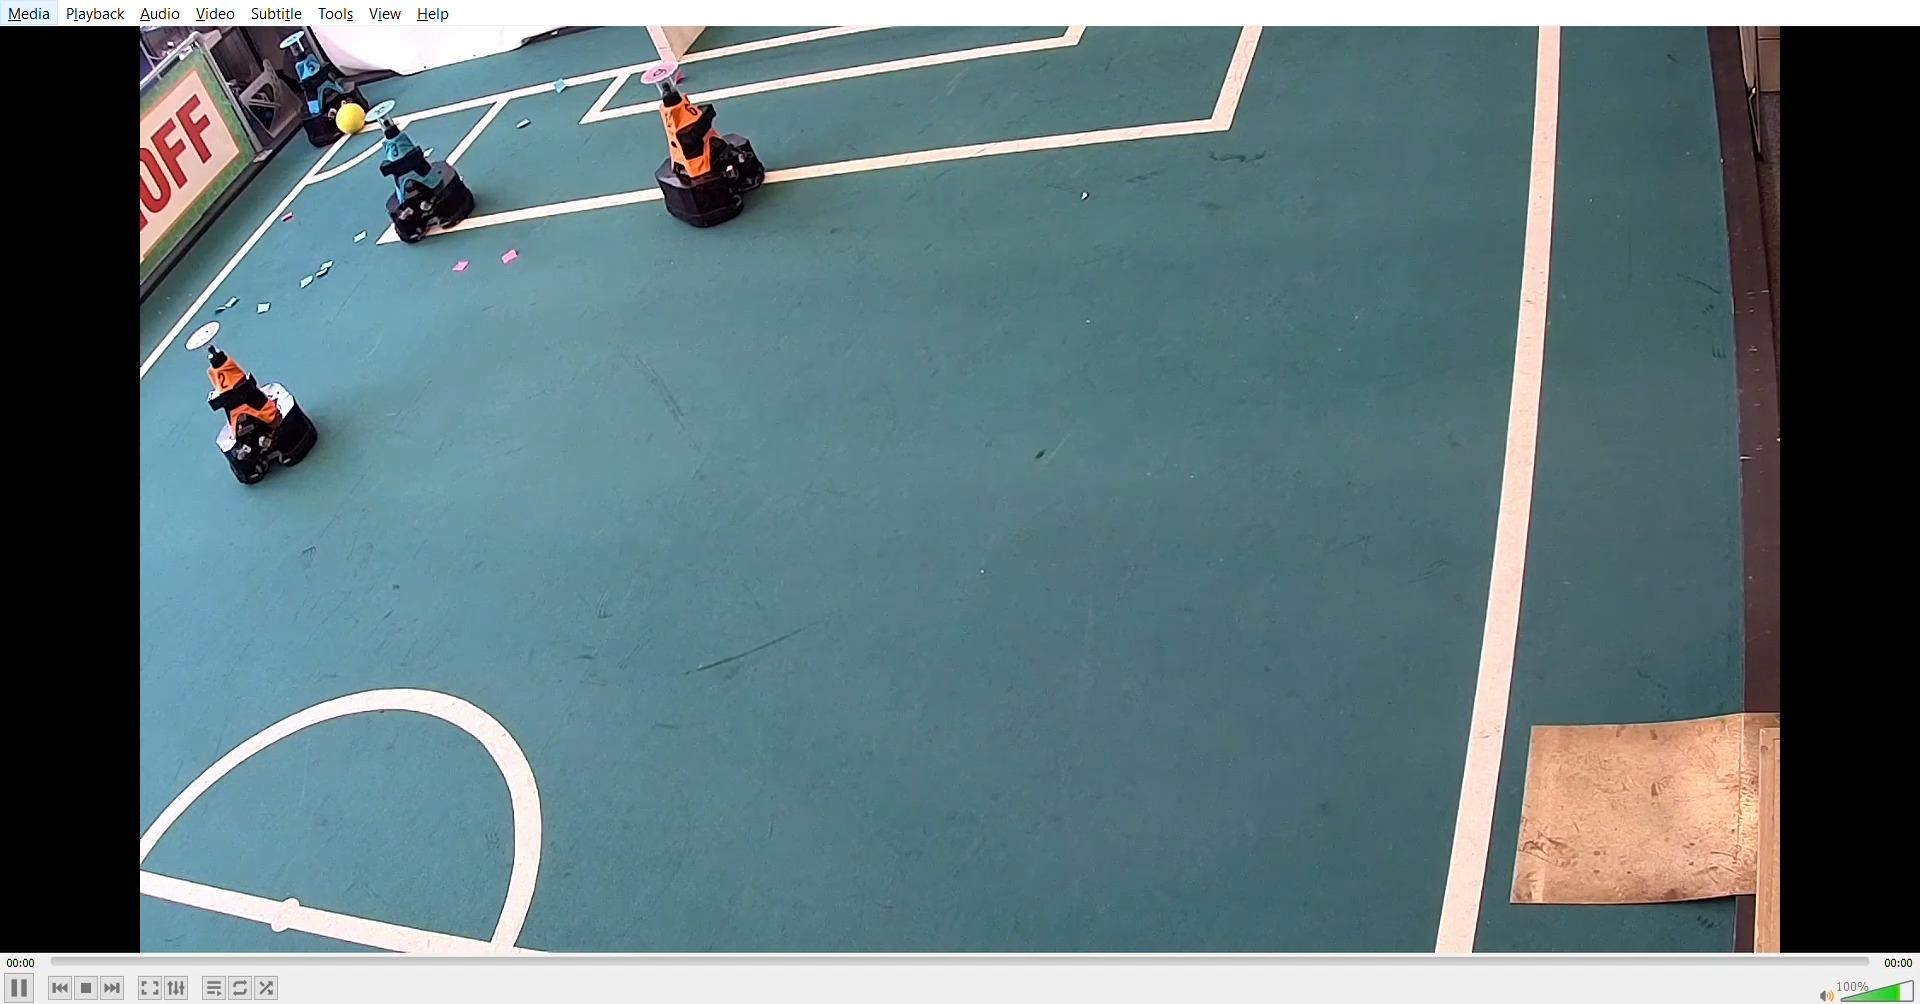Ball: (331, 95, 373, 141)
Team_Blue: (366, 102, 477, 244), (274, 32, 373, 146)
Team_Red: (180, 320, 321, 490), (637, 56, 767, 235)
